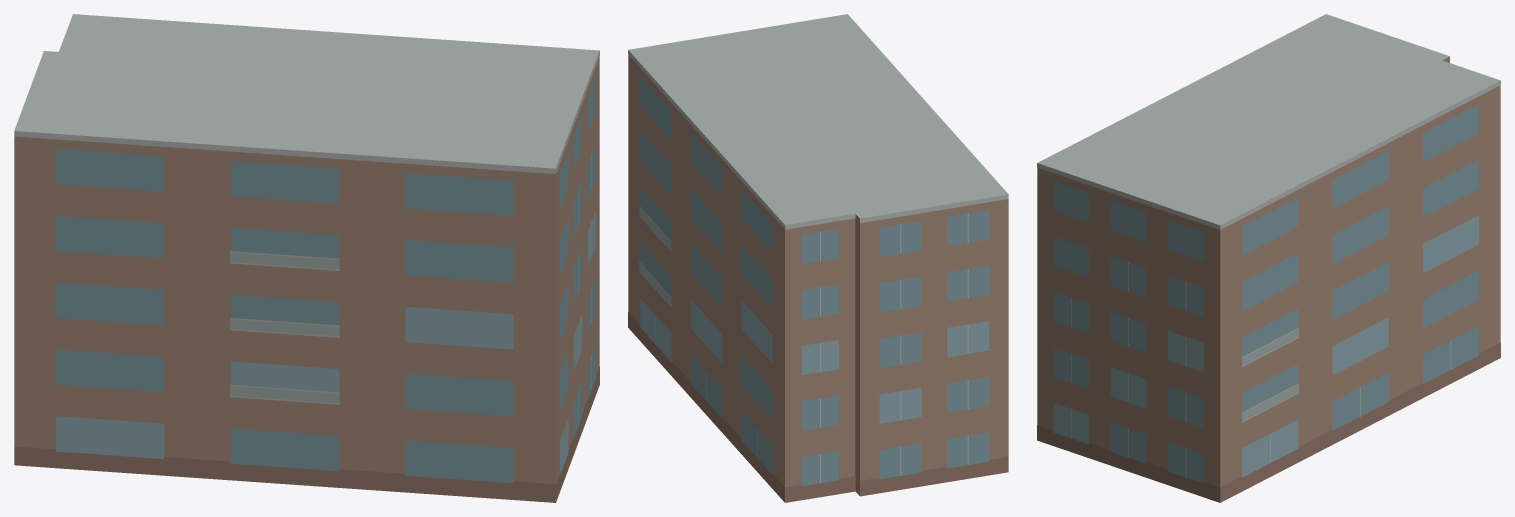
The model's file is survey-upis-32955851.glb.
3 views of the same model, side by side, from view 1: azimuth 30°, elevation 25°; view 2: azimuth 150°, elevation 25°; view 3: azimuth 270°, elevation 25° (orthographic). The views are drawn at different scales.
Parts seen in each view (by area): view 1: survey-upis-32955851.tmp; view 2: survey-upis-32955851.tmp; view 3: survey-upis-32955851.tmp.
Part boxes in pixels (x1,y1,x2,y2): survey-upis-32955851.tmp: (14, 14, 599, 502); survey-upis-32955851.tmp: (628, 14, 1008, 502); survey-upis-32955851.tmp: (1037, 14, 1500, 502).
Bounding box in the file's own units: 24.02 × 14.7 × 22.26.
